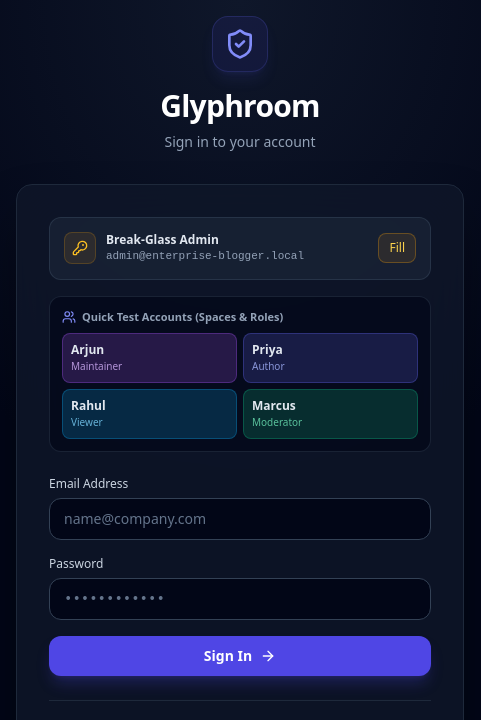
Test: SignInView Component › quick-fills admin credentials when clicking Fill button
This screenshot has width=481, height=720.
Click the button "Fill" at [397, 248], box [378,233,416,263]
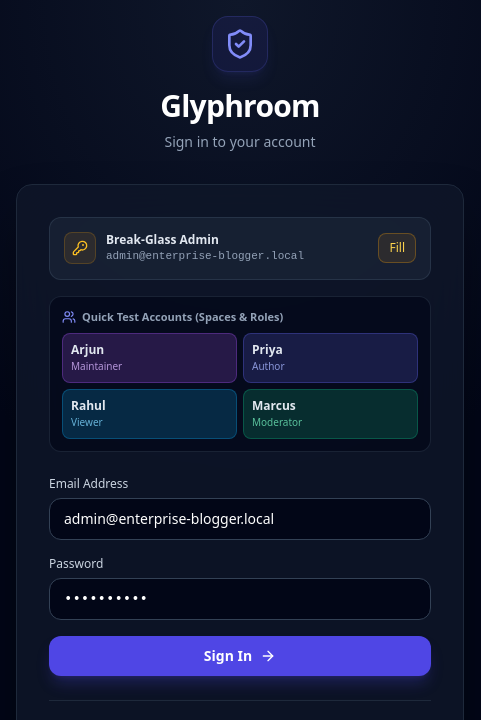
Expected: the field with placeholder "name@company.com" holds "admin@enterprise-blogger.local", [49,498,431,540]
Expected: the password field with placeholder "••••••••••••" holds "admin2026!", [49,578,431,620]
